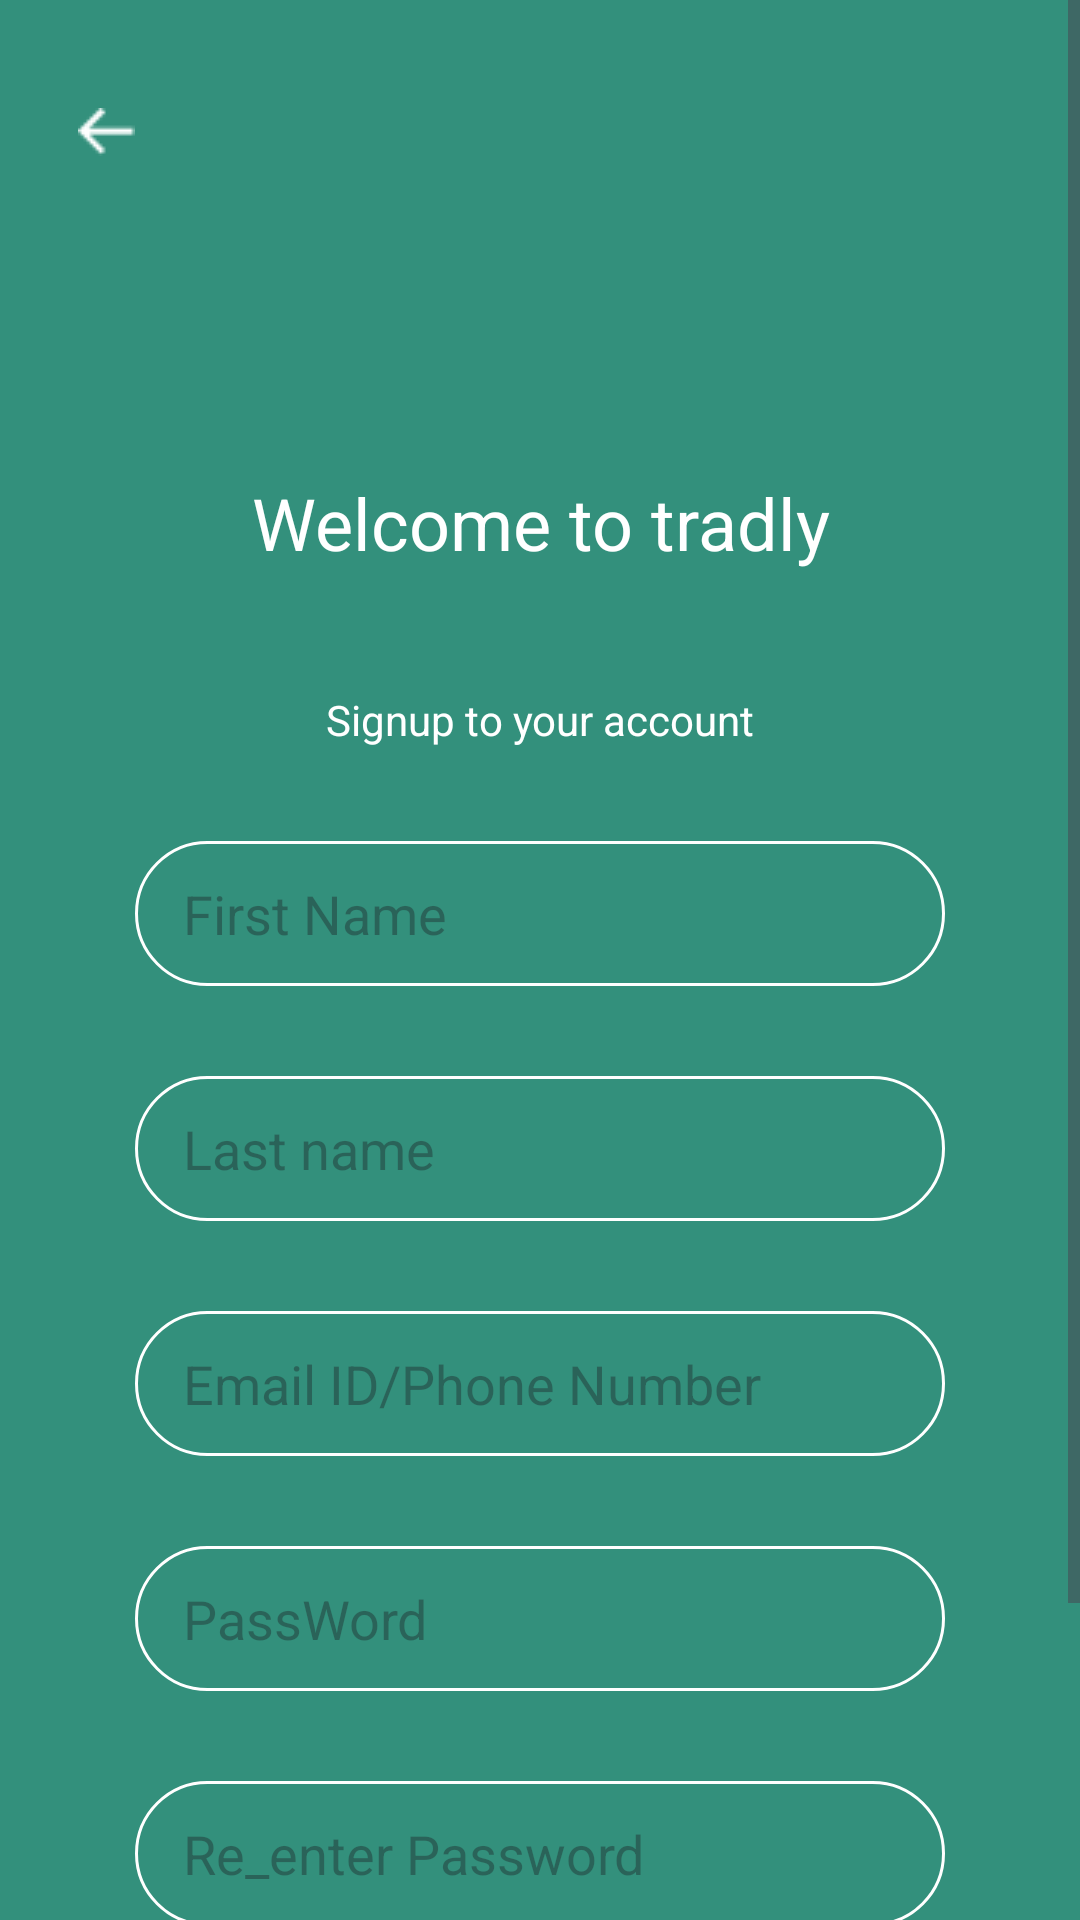

Where to tap for icons on this 1080px×1920px app screen, as point (x, y):
Back: point (106, 131)
